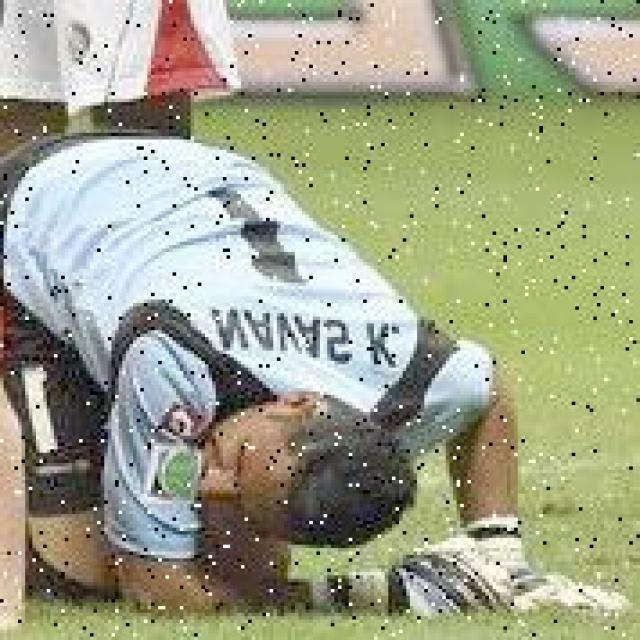fall: (11, 136, 594, 620)
